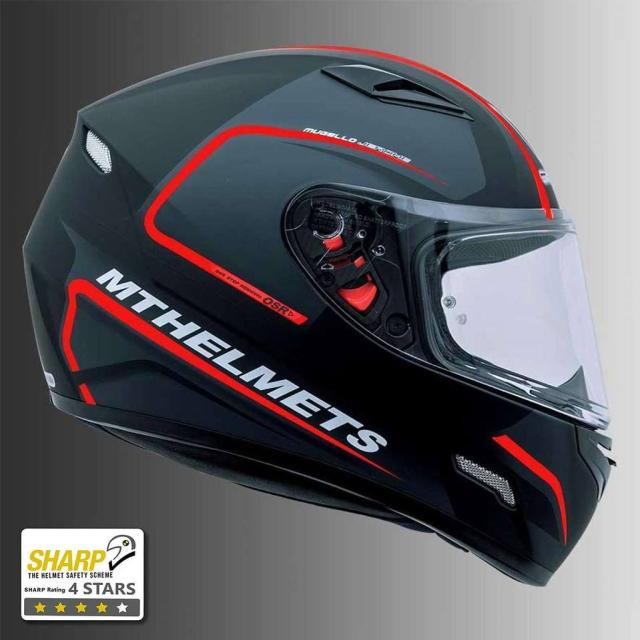Helmet: (23, 8, 640, 640)
